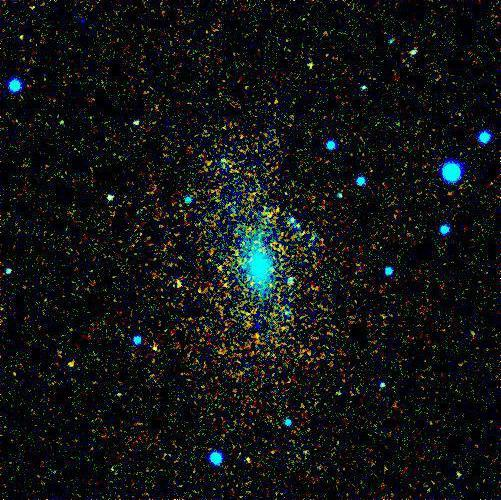star: (56, 348, 86, 378)
